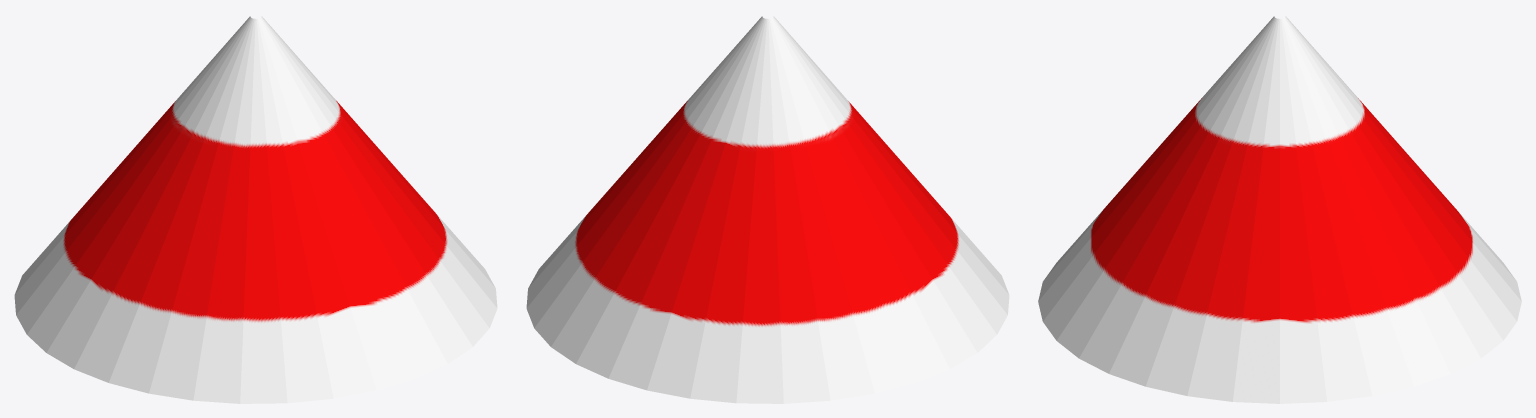
The model's file is Cone_RedStripe.gltf.
3 renders of one model, left to right at view 1: azimuth 30°, elevation 25°; view 2: azimuth 150°, elevation 25°; view 3: azimuth 270°, elevation 25°, orthographic.
Parts seen in each view (by area): view 1: Cone; view 2: Cone; view 3: Cone.
Boxes of the visible parts, x1,y1,x2,y2 form: Cone: (14, 16, 497, 403); Cone: (526, 16, 1009, 403); Cone: (1038, 16, 1521, 403).
Size of the model in its own units: 0.75 by 0.4881 by 0.75.
